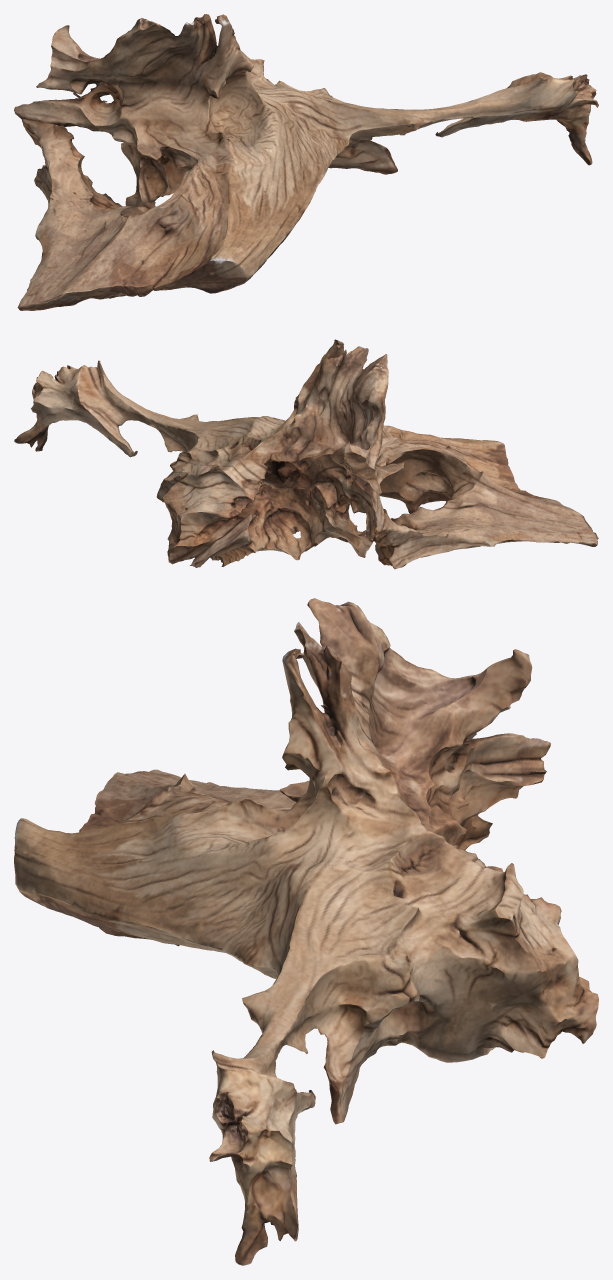
The model's file is real_aquarium_wood_3d_scan.glb.
3 renders of one model, top to bottom at view 1: azimuth 30°, elevation 25°; view 2: azimuth 150°, elevation 25°; view 3: azimuth 270°, elevation 25°, orthographic. The views are drawn at different scales.
Parts seen in each view (by area): view 1: Object_2; view 2: Object_2; view 3: Object_2.
Boxes of the visible parts, left/top/right/bottom form: Object_2: left=14, top=14, right=598, bottom=310; Object_2: left=14, top=339, right=598, bottom=569; Object_2: left=14, top=598, right=598, bottom=1265.
Bounding box in the file's own units: 0.8442 × 0.2979 × 0.448.
1 material, 1 textured.
